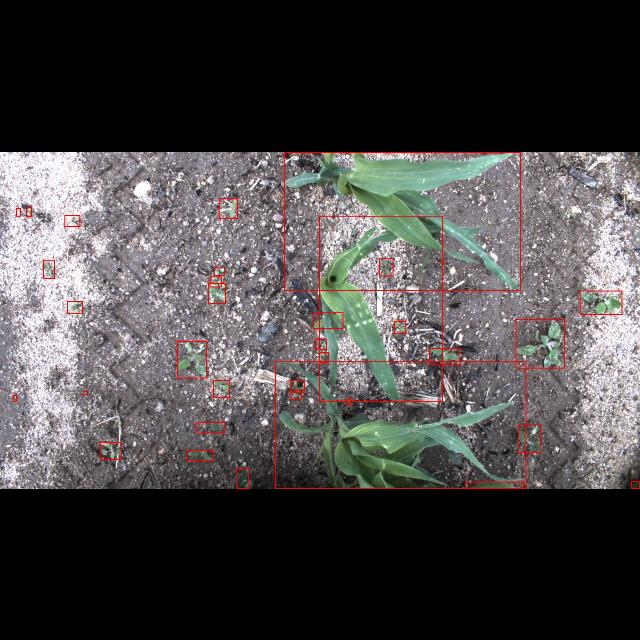crop: (284, 151, 520, 289), (276, 362, 526, 488), (320, 215, 442, 401), (465, 482, 523, 488)
weed: (516, 318, 564, 368), (177, 340, 207, 378), (580, 290, 622, 314), (518, 424, 540, 452), (428, 348, 459, 364), (313, 312, 343, 328), (100, 442, 122, 460), (219, 197, 237, 217), (208, 283, 226, 303), (213, 379, 229, 397), (196, 422, 224, 432), (187, 450, 213, 460), (379, 258, 393, 276), (236, 468, 248, 488), (44, 258, 54, 278), (64, 214, 80, 226), (68, 301, 82, 313), (290, 380, 304, 392), (394, 321, 406, 334), (210, 276, 222, 286), (290, 390, 302, 400), (316, 339, 326, 349), (214, 267, 224, 275), (320, 352, 328, 362), (26, 206, 32, 216), (631, 482, 639, 488), (17, 207, 21, 215), (13, 395, 17, 401), (348, 398, 350, 404), (82, 392, 88, 394)
